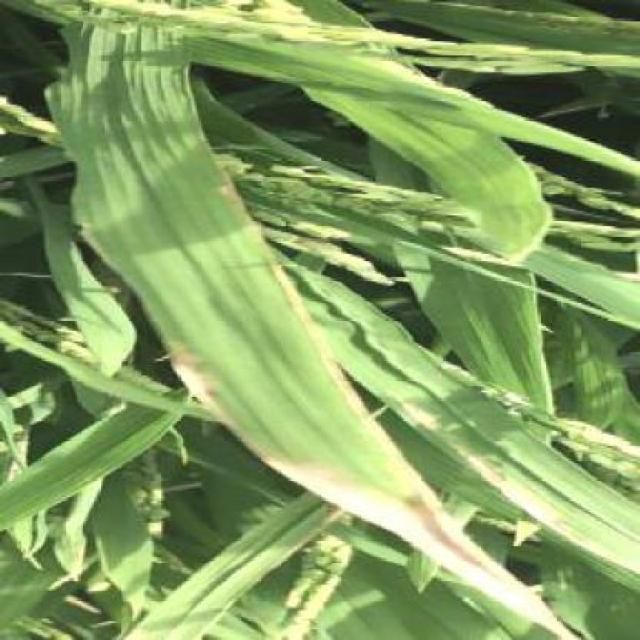Brown_Spot: (176, 178, 309, 477), (526, 488, 640, 586)
